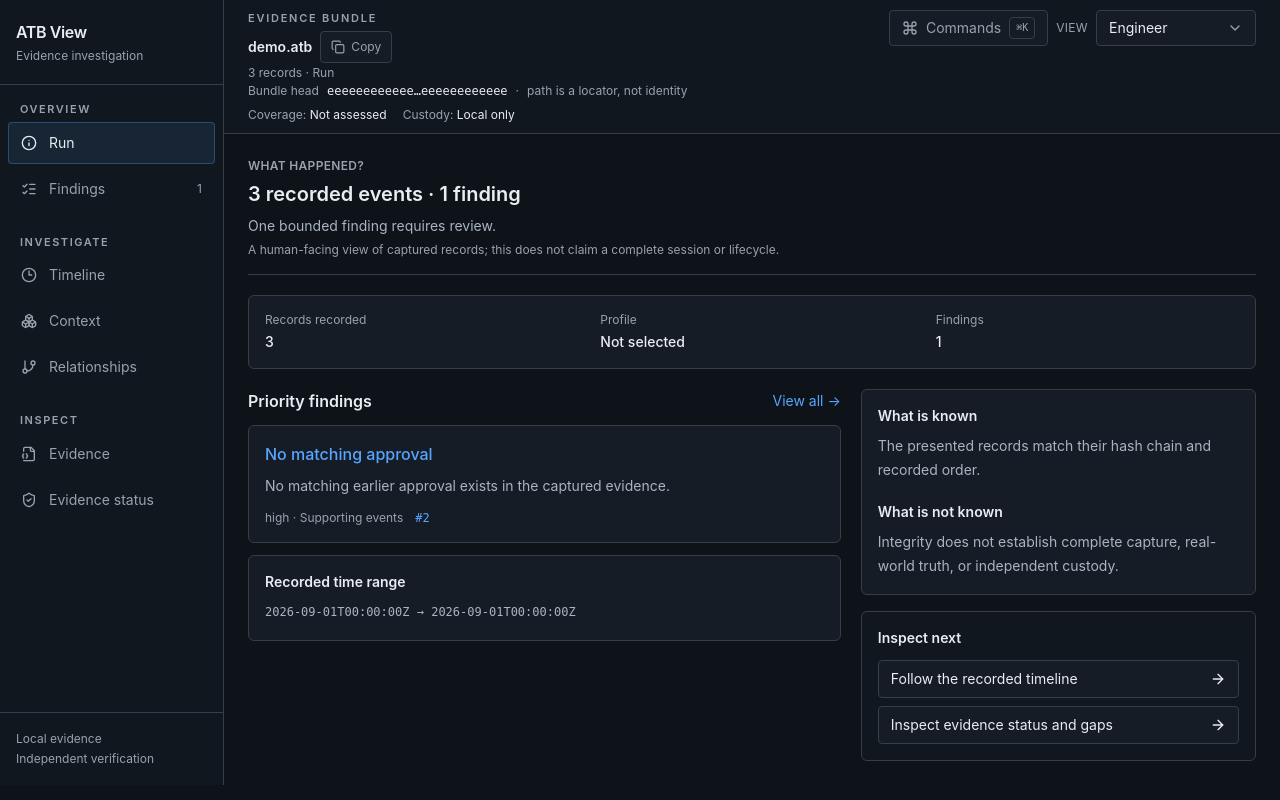
Test case: ATB View investigation model › does not claim context was supplied to the model
Click the button "Context" at (112, 321), box top-left (8, 300), bottom-right (215, 342)
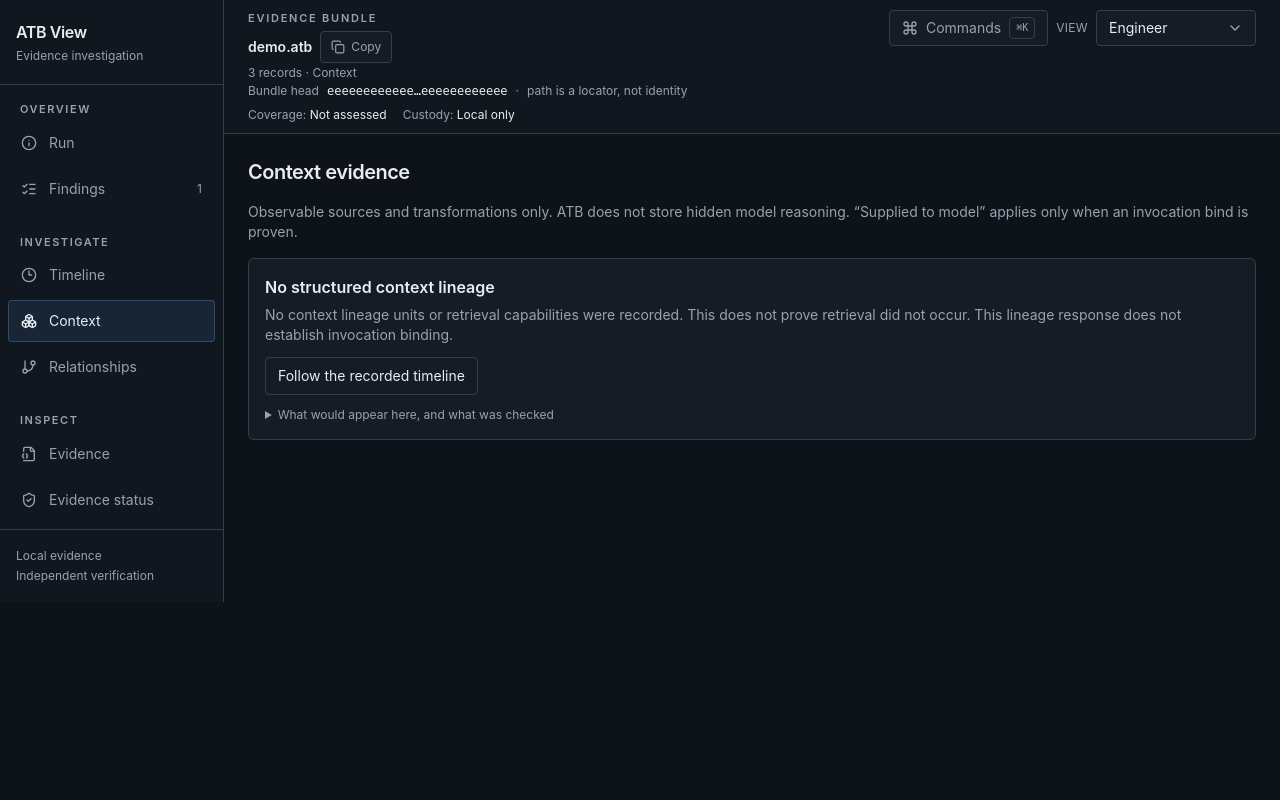
expect the element "Context evidence" is shown: met, box top-left (248, 158), bottom-right (1256, 440)
expect the text "does not prove retrieval did not occur" is shown: met, box top-left (265, 306), bottom-right (1181, 342)
